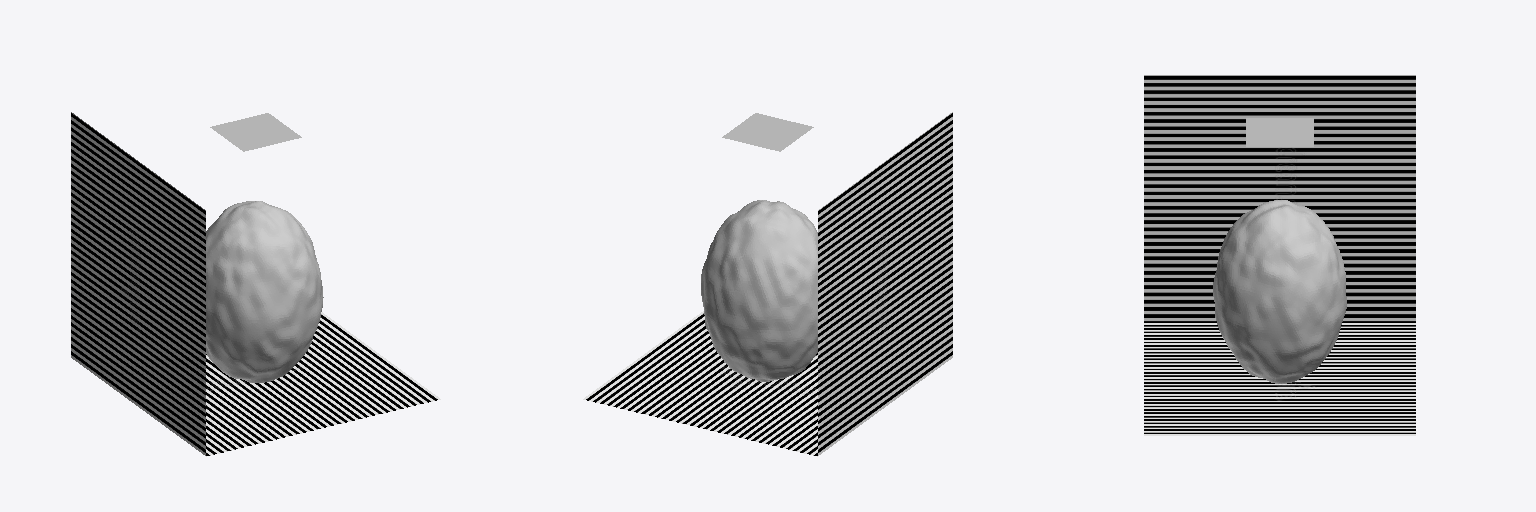
3 renders of one model, left to right at view 1: azimuth 30°, elevation 25°; view 2: azimuth 150°, elevation 25°; view 3: azimuth 270°, elevation 25°, orthographic.
Visible parts, largest first — view 1: Plane.002, Icosphere, Plane, Plane.001; view 2: Plane.002, Icosphere, Plane, Plane.001; view 3: Plane.002, Plane, Icosphere, Plane.001.
Part boxes in pixels (bbox=[...]): Plane.002: bbox=[71, 112, 205, 455]; Icosphere: bbox=[206, 201, 323, 382]; Plane: bbox=[206, 312, 440, 456]; Plane.001: bbox=[210, 113, 301, 151]; Plane.002: bbox=[818, 112, 952, 455]; Icosphere: bbox=[701, 200, 817, 381]; Plane: bbox=[583, 311, 817, 456]; Plane.001: bbox=[722, 113, 813, 151]; Plane.002: bbox=[1144, 75, 1415, 320]; Plane: bbox=[1144, 321, 1415, 435]; Icosphere: bbox=[1213, 200, 1346, 383]; Plane.001: bbox=[1246, 118, 1313, 146].
Size of the model in its own units: 8 by 8.04 by 8.
3 materials, 1 textured.